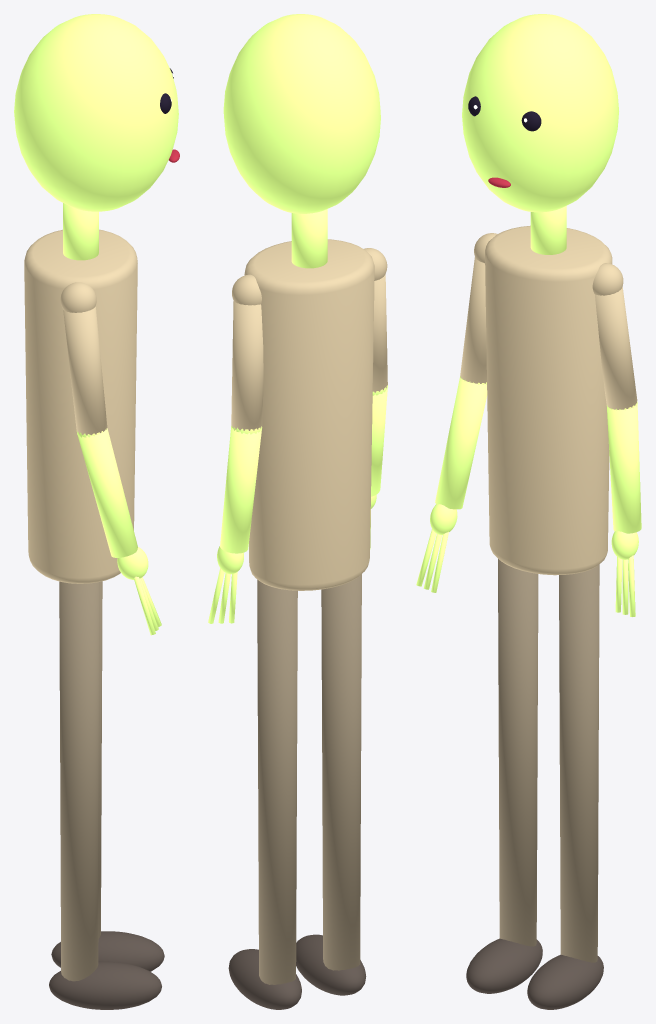
Rendered from salad.glb.
3 views of the same model, side by side, from view 1: azimuth 30°, elevation 25°; view 2: azimuth 150°, elevation 25°; view 3: azimuth 270°, elevation 25° (orthographic).
Visible parts, largest first — view 1: Sf_Hemd.001, Sf_Kopf.001, Sf_BeinR.001, Sf_OAR.001, Sf_SchuhR.001, Sf_UAR.001, Sf_SchuhL.001, Sf_Hals.001, Sf_BeinL.001, Sf_ShKR.001, Sf_HandR.001; view 2: Sf_Hemd.001, Sf_Kopf.001, Sf_BeinL.001, Sf_BeinR.001, Sf_OAL.001, Sf_UAL.001, Sf_SchuhL.001, Sf_SchuhR.001, Sf_Hals.001, Sf_OAR.001, Sf_UAR.001, Sf_ShKL.001 (+1 smaller); view 3: Sf_Hemd.001, Sf_Kopf.001, Sf_BeinL.001, Sf_BeinR.001, Sf_UAR.001, Sf_UAL.001, Sf_OAL.001, Sf_SchuhR.001, Sf_SchuhL.001, Sf_OAR.001, Sf_Hals.001, Sf_ShKL.001 (+2 smaller).
Boxes of the visible parts, x1,y1,x2,y2 form: Sf_Hemd.001: (24, 229, 137, 583); Sf_Kopf.001: (14, 14, 178, 211); Sf_BeinR.001: (59, 581, 99, 981); Sf_OAR.001: (63, 306, 107, 435); Sf_SchuhR.001: (49, 961, 161, 1009); Sf_UAR.001: (77, 428, 137, 557); Sf_SchuhL.001: (51, 931, 164, 971); Sf_Hals.001: (63, 203, 98, 260); Sf_BeinL.001: (98, 581, 102, 938); Sf_ShKR.001: (60, 282, 96, 312); Sf_HandR.001: (117, 547, 148, 579); Sf_Hemd.001: (244, 239, 374, 590); Sf_Kopf.001: (223, 14, 380, 213); Sf_BeinL.001: (257, 579, 297, 984); Sf_BeinR.001: (321, 574, 361, 970); Sf_OAL.001: (231, 301, 263, 430); Sf_UAL.001: (220, 426, 261, 553); Sf_SchuhL.001: (228, 949, 301, 1009); Sf_SchuhR.001: (296, 934, 366, 995); Sf_Hals.001: (291, 209, 327, 268); Sf_OAR.001: (372, 274, 387, 392); Sf_UAR.001: (371, 388, 387, 496); Sf_ShKL.001: (232, 274, 261, 305); Sf_Hemd.001: (485, 225, 612, 575); Sf_Kopf.001: (462, 14, 618, 212); Sf_BeinL.001: (559, 564, 599, 962); Sf_BeinR.001: (498, 559, 538, 946); Sf_UAR.001: (435, 377, 487, 509); Sf_UAL.001: (606, 404, 641, 533); Sf_OAL.001: (595, 287, 637, 409); Sf_SchuhR.001: (466, 938, 542, 993); Sf_SchuhL.001: (527, 954, 603, 1009); Sf_OAR.001: (460, 257, 486, 383); Sf_Hals.001: (530, 206, 566, 254); Sf_ShKL.001: (592, 263, 623, 295).
Bounding box in the file's own units: 0.3182 × 2.08 × 0.4381.
